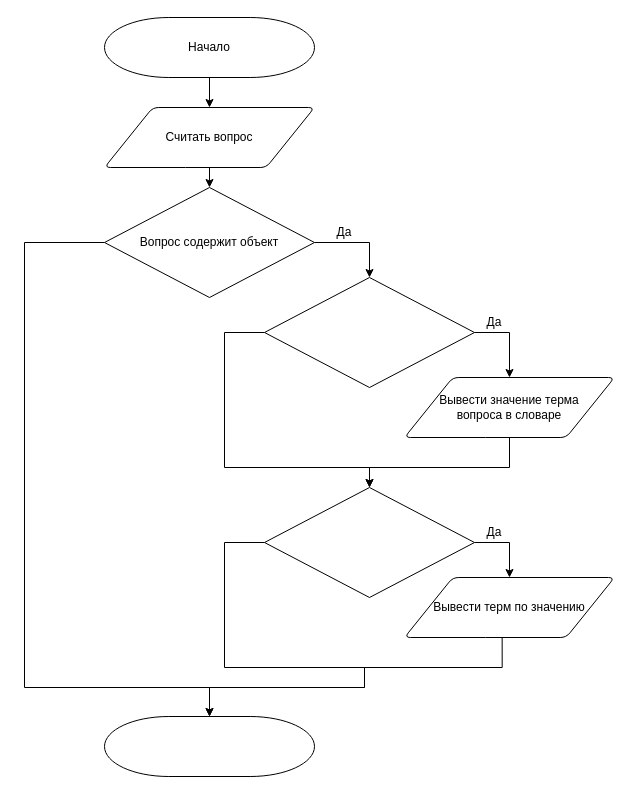
Image size: 632x794. Some labels were removed from this diagram. The shapes that lost their labels are listed below. From the top down, each one's centre as x and y in pixels, then its label:
At point (369, 332): "Вопрос содержит терм и не содержит указание какого-то количества часов".
At point (369, 542): "Вопрос содержит указание какого-то количества часов".
At point (209, 746): "Конец".
